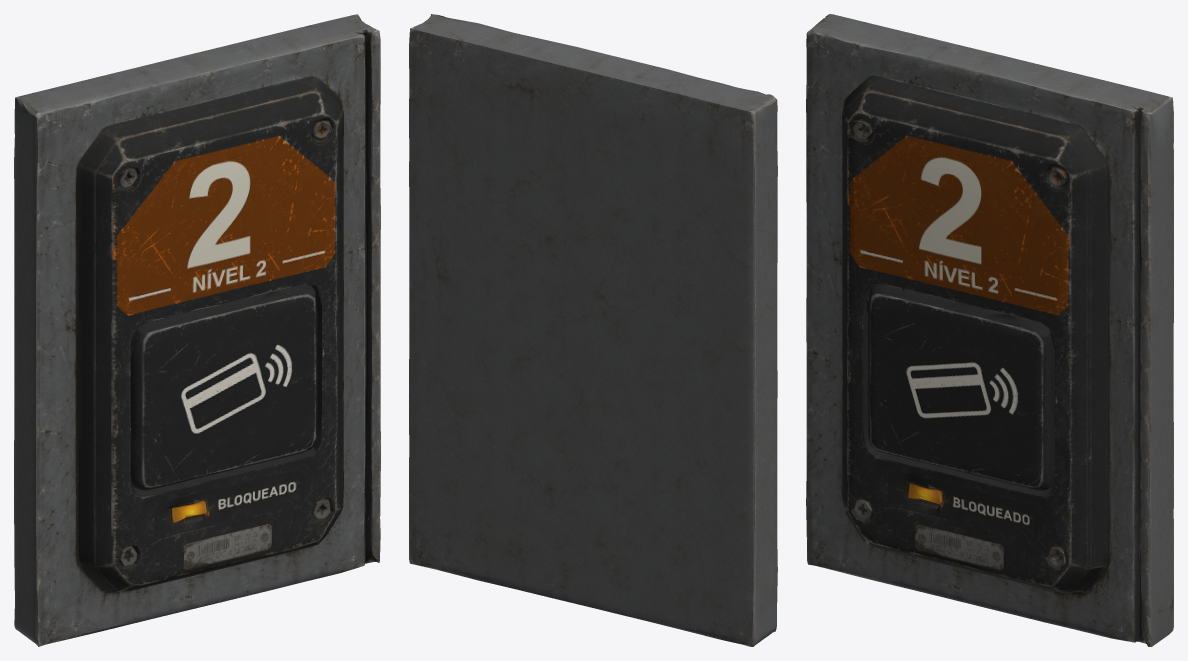
File: fechadura-nivel2-bloqueada.glb
The picture shows the model from 3 angles, left to right: view 1: azimuth 30°, elevation 25°; view 2: azimuth 150°, elevation 25°; view 3: azimuth 330°, elevation 25°; orthographic projection.
Visible parts, largest first — view 1: Fechadura_Nivel_2; view 2: Fechadura_Nivel_2; view 3: Fechadura_Nivel_2.
Boxes of the visible parts, bbox=[...] form: Fechadura_Nivel_2: bbox=[14, 14, 380, 646]; Fechadura_Nivel_2: bbox=[409, 14, 777, 646]; Fechadura_Nivel_2: bbox=[806, 14, 1173, 646].
Bounding box in the file's own units: 1.29 × 1.9 × 0.2985.
1 material, 1 textured.
